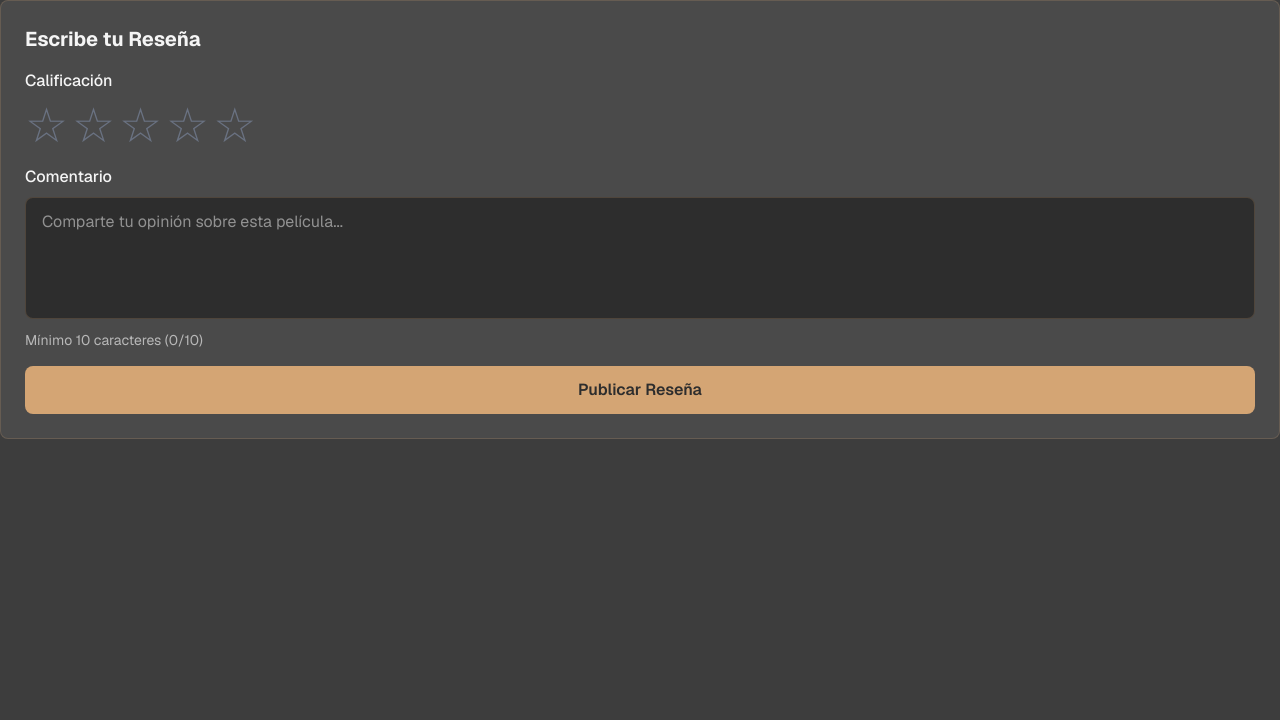
Test case: ReviewForm › shows validation error when missing rating
Type "Comentario válido" into the text box labelled "Comentario" at (640, 258), box [25,197,1255,319]
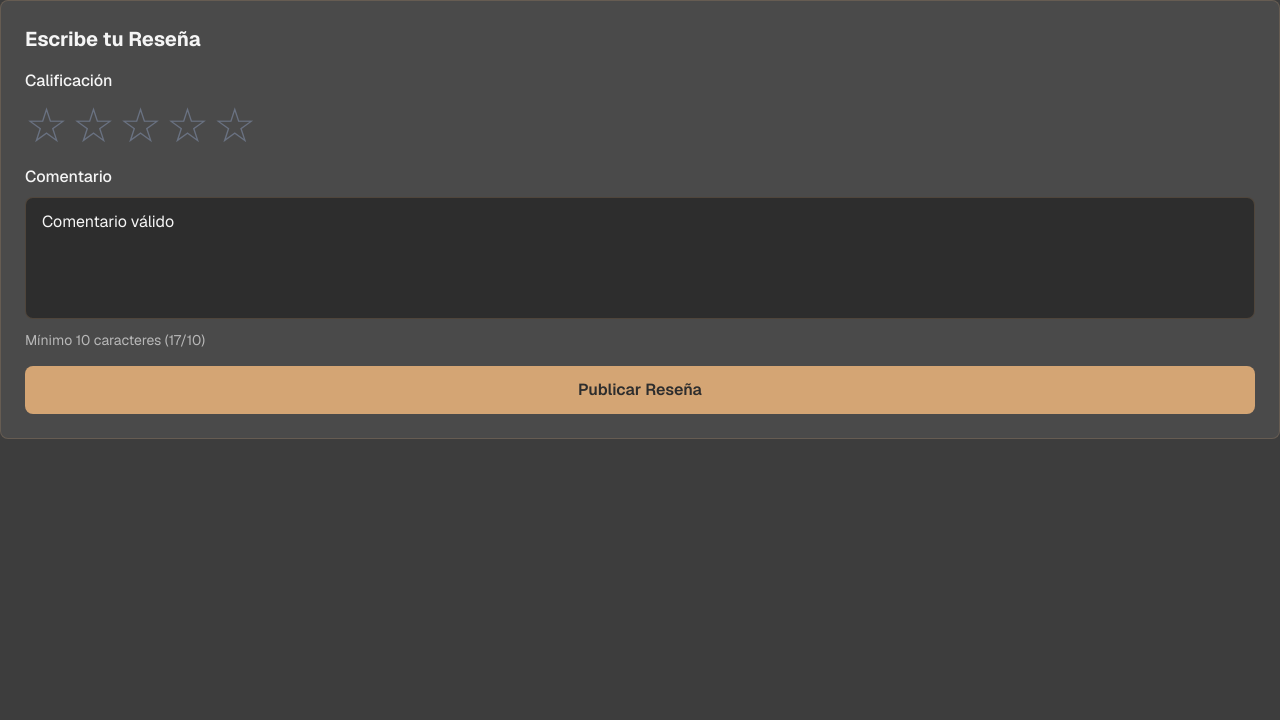
Click the button "Publicar Reseña" at (640, 390), box [25,366,1255,414]
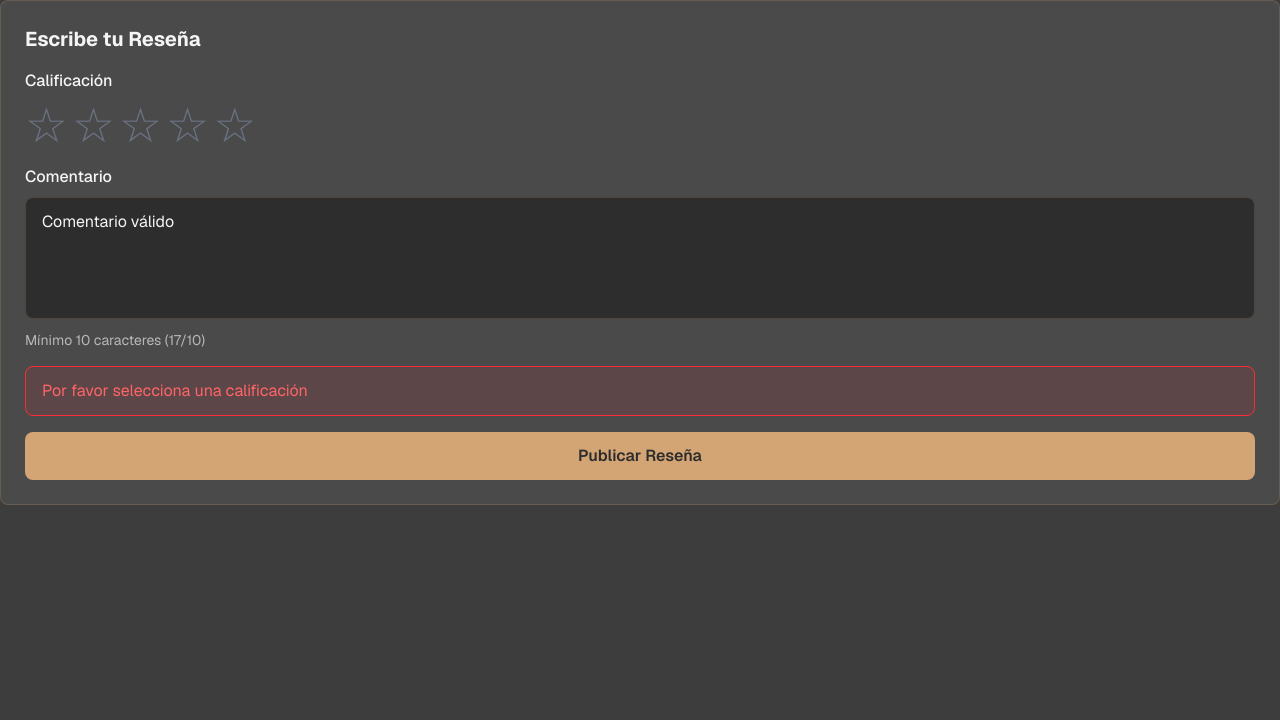
Expected: the text "Por favor selecciona una calificación" is shown, [25,366,1255,416]
